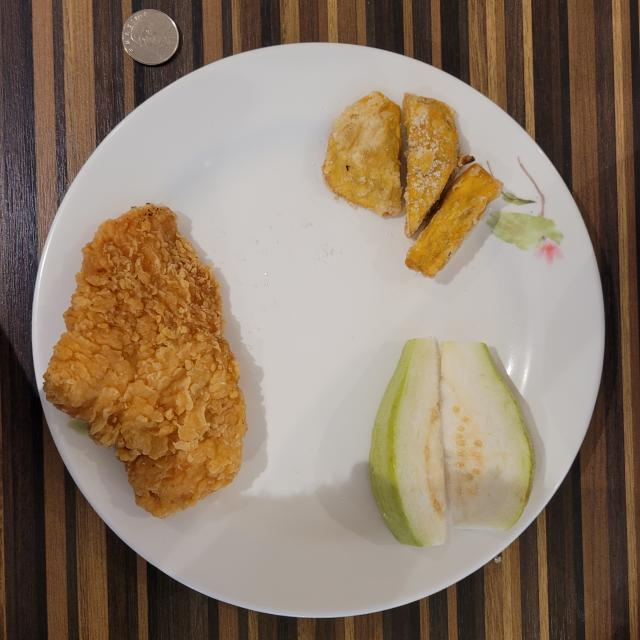coin: (122, 9, 179, 65)
fried chicken cutlet: (44, 204, 246, 518)
fried potato: (322, 91, 502, 278)
guava -sliced-: (370, 338, 534, 546)
